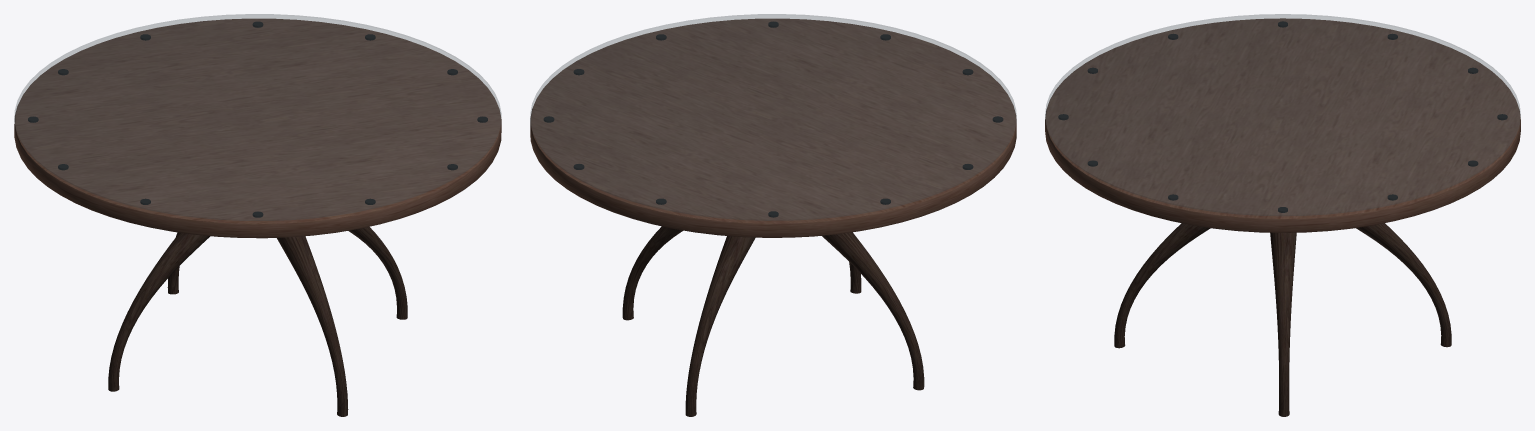
Rendered from round_glass_table.glb.
3 renders of one model, left to right at view 1: azimuth 30°, elevation 25°; view 2: azimuth 150°, elevation 25°; view 3: azimuth 270°, elevation 25°, orthographic. The views are drawn at different scales.
Parts seen in each view (by area): view 1: Object_2; view 2: Object_2; view 3: Object_2.
Boxes of the visible parts, x1,y1,x2,y2 form: Object_2: (14,14,501,416); Object_2: (530,14,1016,416); Object_2: (1045,14,1520,416).
Size of the model in its own units: 2.56 by 1.37 by 2.56.
Materials: 1 (1 with a texture image).
